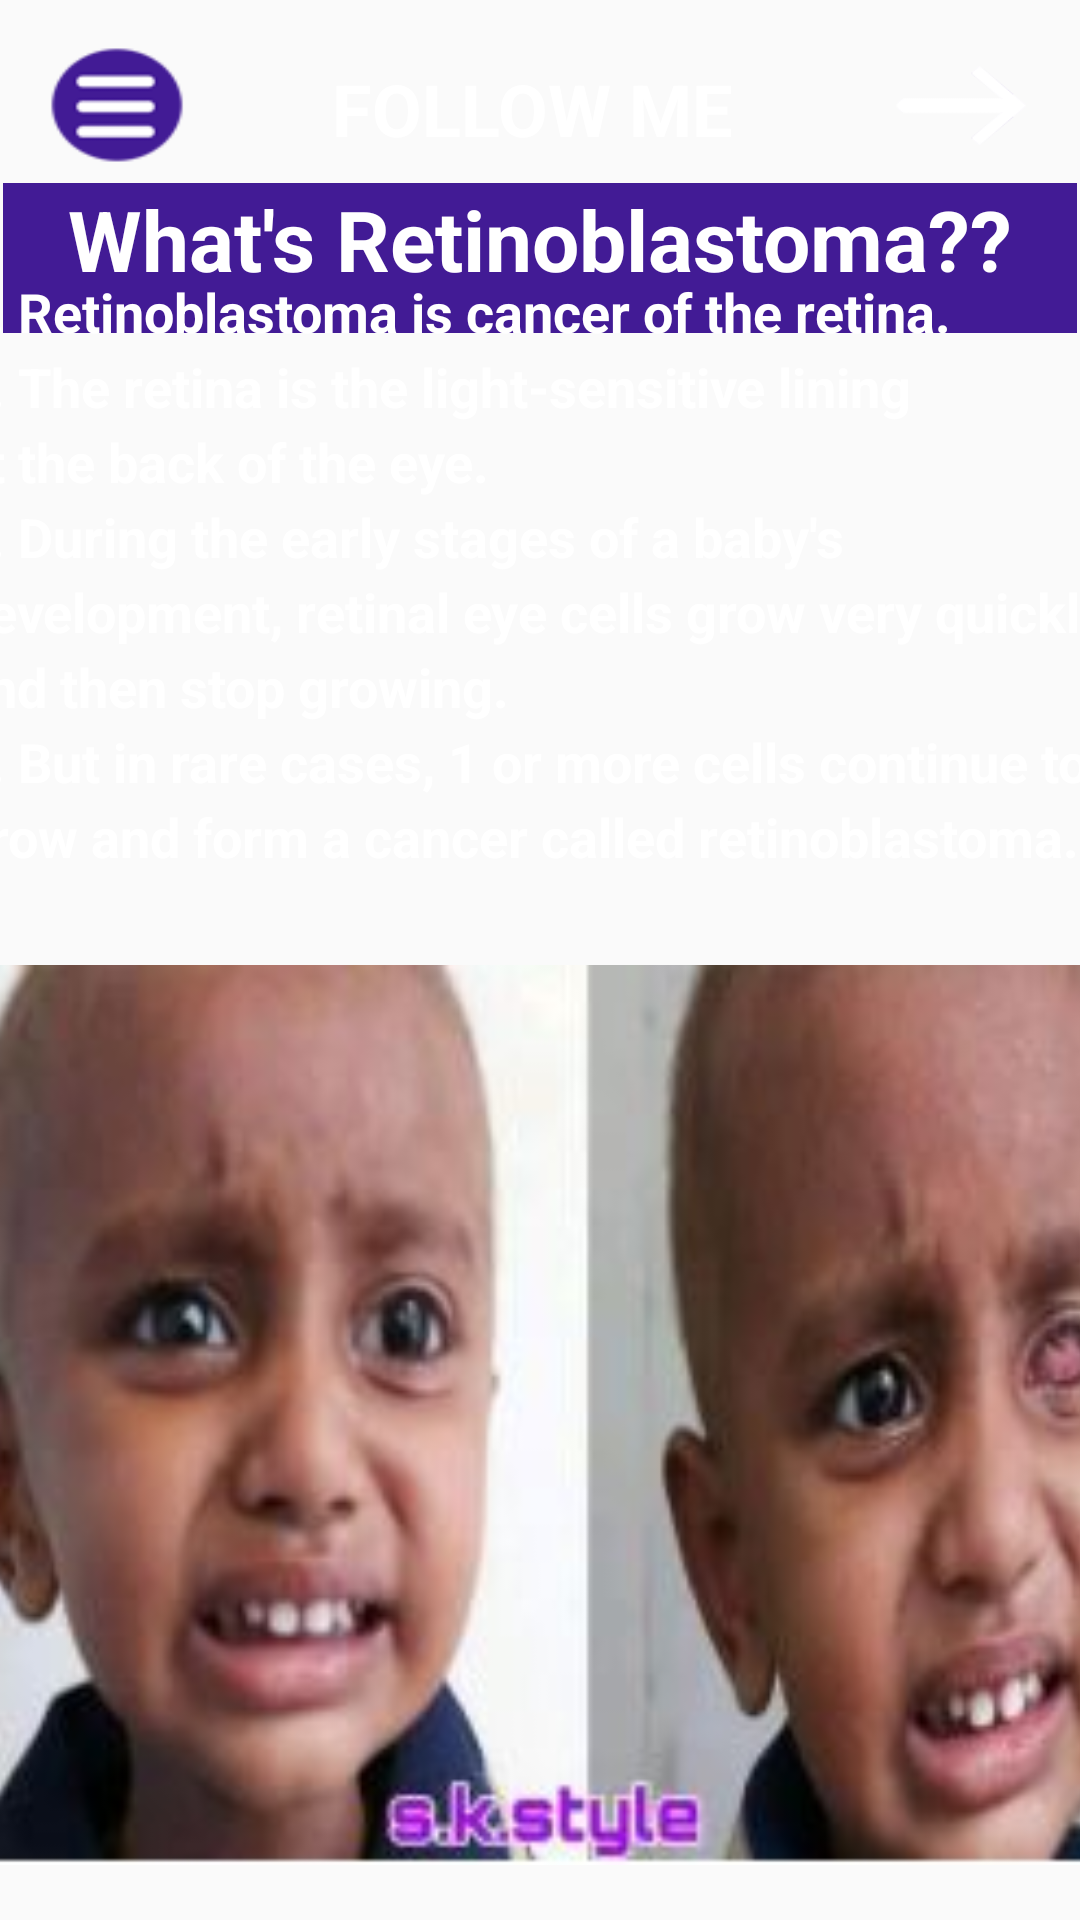

Where to tap for icons on this 1080 × 1920 app screen, as point (x, y):
menu: point (117, 105)
